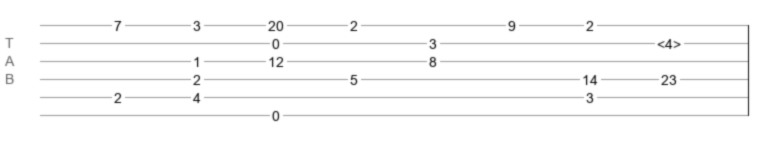0: (272, 108, 280, 118), (272, 36, 280, 46)
1: (193, 54, 201, 64)
12: (268, 54, 284, 64)
14: (582, 72, 598, 82)
2: (114, 90, 122, 100), (193, 72, 201, 82), (350, 18, 358, 28), (586, 18, 594, 28)
20: (268, 18, 284, 28)
23: (661, 72, 677, 82)
3: (193, 18, 201, 28), (429, 36, 437, 46), (586, 90, 594, 100)
4: (193, 90, 201, 100)
5: (350, 72, 358, 82)
7: (114, 18, 122, 28)
8: (429, 54, 437, 64)
9: (508, 18, 516, 28)
harmonic: (657, 36, 681, 46)
